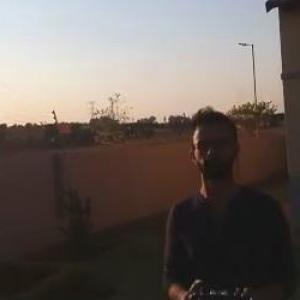follow: (157, 105, 299, 299)
